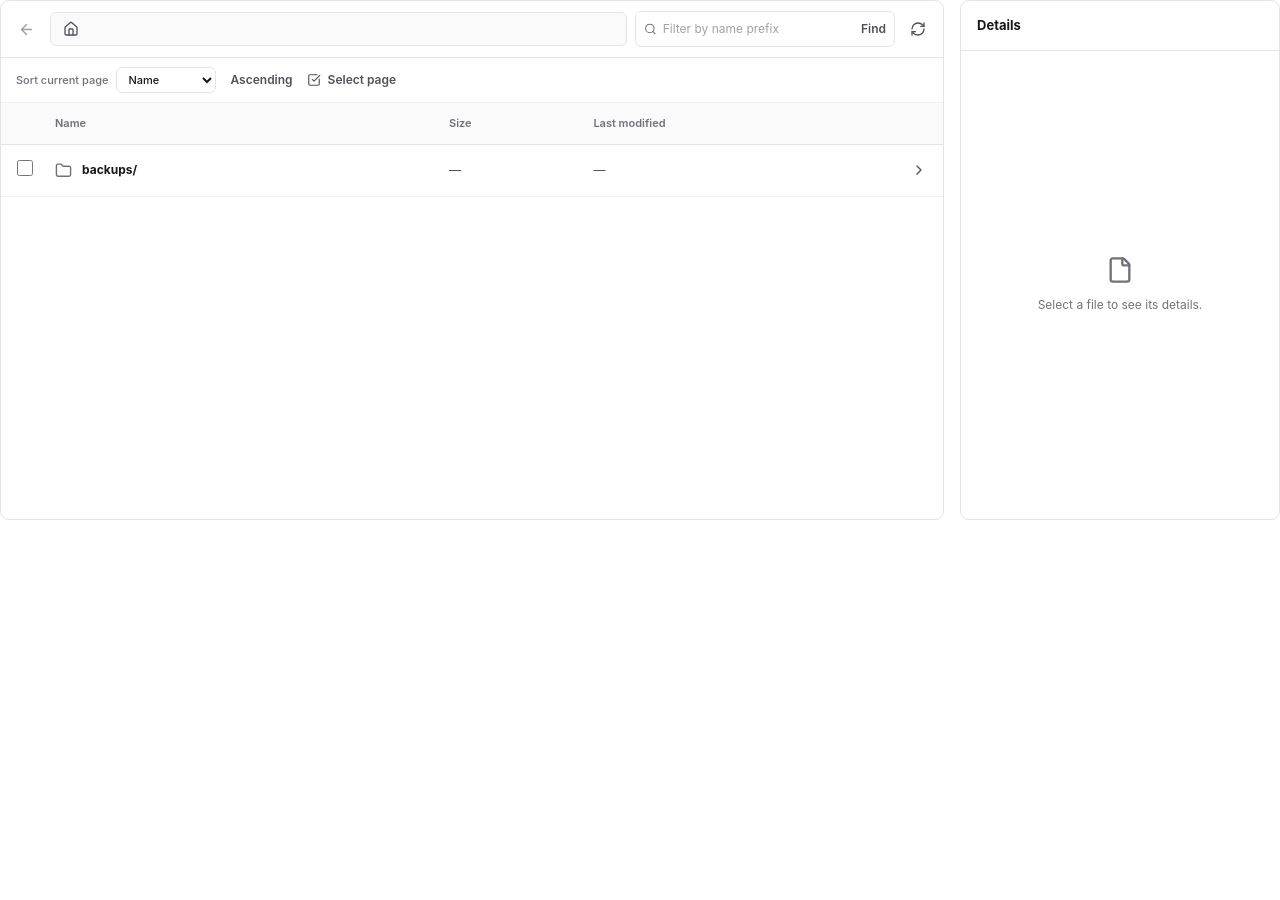
Test: folder delete queues backend job without deleting in the browser
This screenshot has width=1280, height=900.
Click the checkbox named "Select folder backups/": [25, 168] box top-left (17, 160), bottom-right (33, 176)
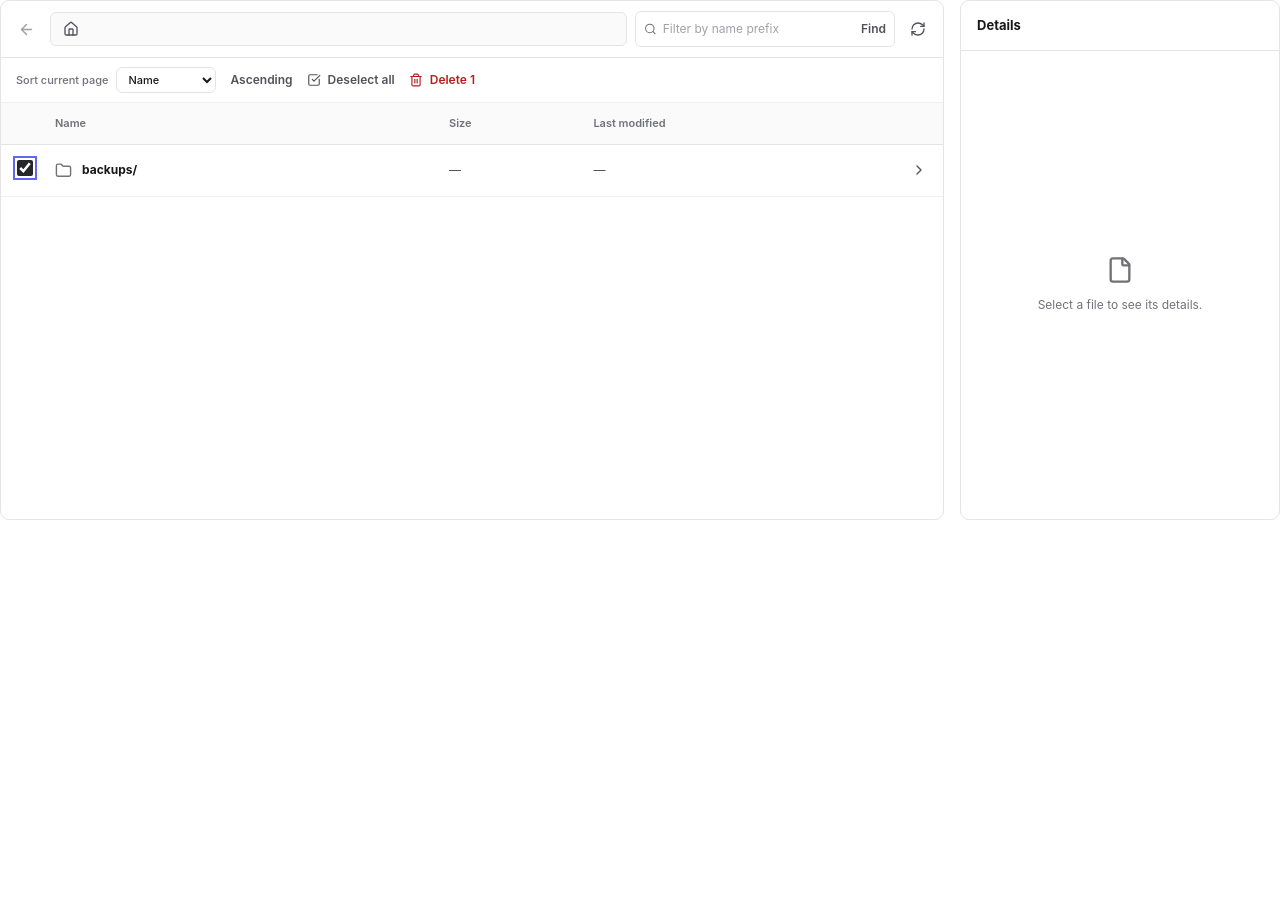
Click the button "Delete 1": [442, 80] box top-left (409, 71), bottom-right (475, 89)
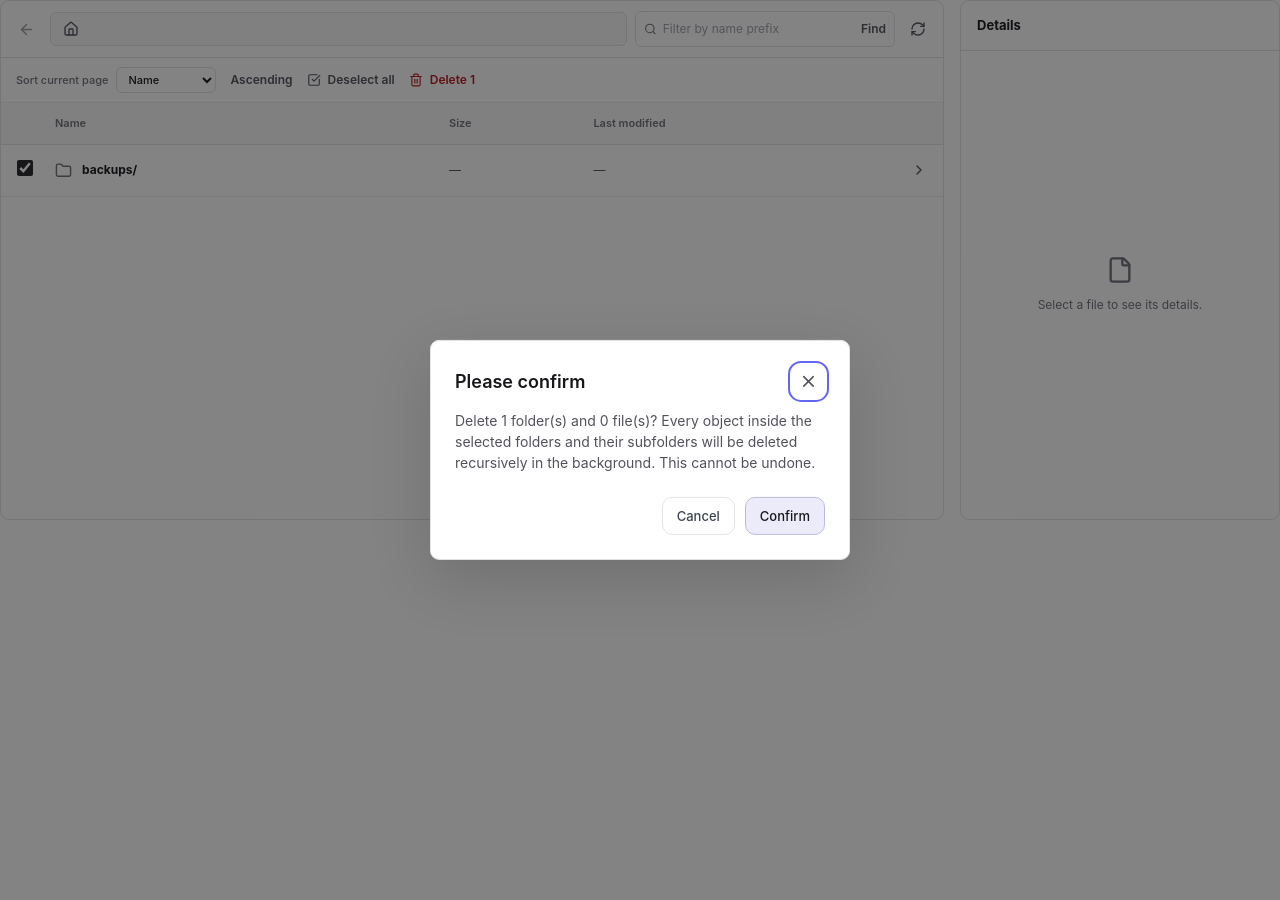
Click the button "Confirm": [785, 516] box top-left (745, 497), bottom-right (825, 535)
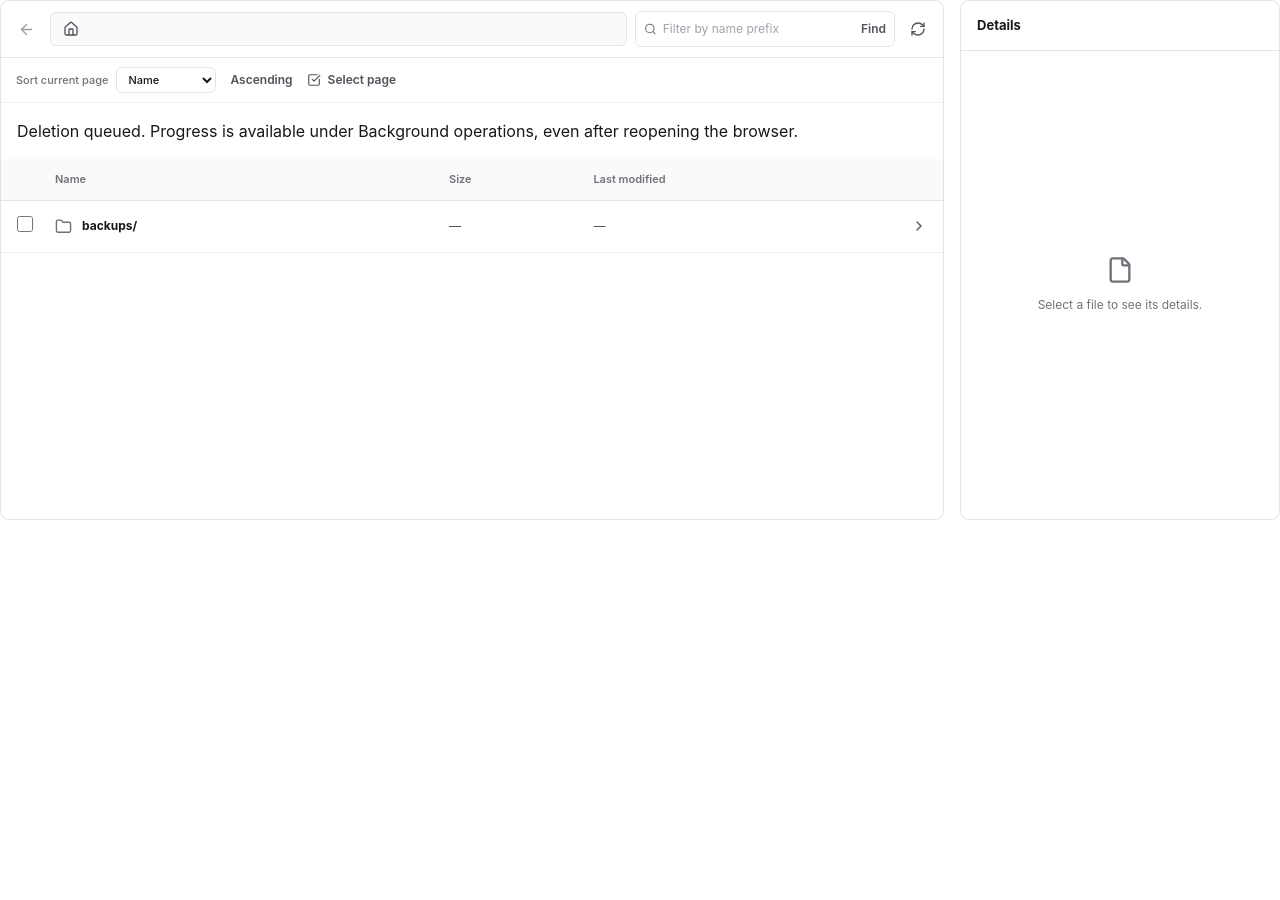
Result: the text "Deletion queued" is shown at top-left (17, 121), bottom-right (798, 141)
